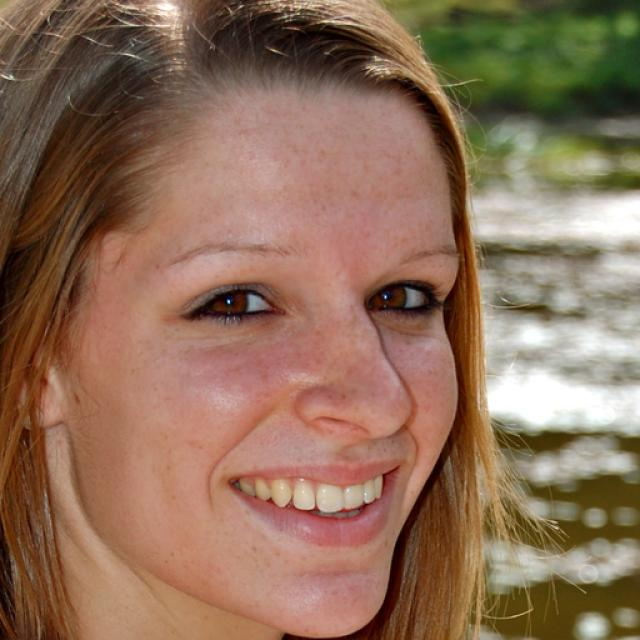Pigmentation: (303, 302, 407, 412), (273, 136, 424, 210)
